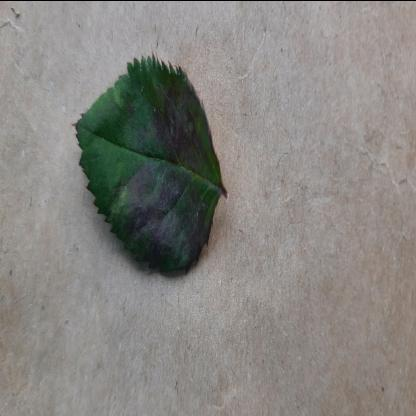downy-mildew: (74, 45, 224, 281)
